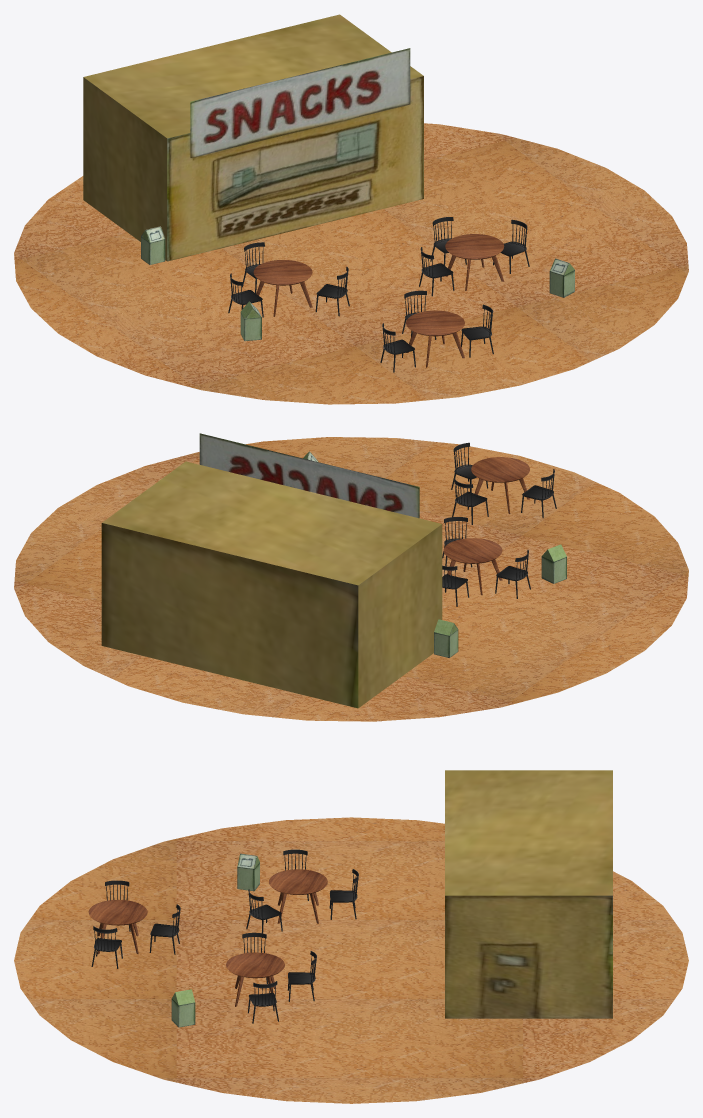
File: SnackArea.fbx
3 views of the same model, one above another, from view 1: azimuth 30°, elevation 25°; view 2: azimuth 150°, elevation 25°; view 3: azimuth 270°, elevation 25° (orthographic).
Parts seen in each view (by area): view 1: Cylinder, Cube, Cube_002, table_CÃ_rculo_001, table_CÃ_rculo_002, table_CÃ_rculo_003, Cube_001, Cube_003, Cube_004, seat_Plano_007, seat_Plano_008; view 2: Cylinder, Cube, Cube_002, table_CÃ_rculo_002, table_CÃ_rculo_003, Cube_004, Cube_003, seat_Plano_006, seat_Plano_002, seat_Plano_001, seat_Plano_007, seat_Plano_005; view 3: Cylinder, Cube, table_CÃ_rculo_003, table_CÃ_rculo_002, table_CÃ_rculo_001, Cube_001, Cube_004, seat_Plano_008, seat_Plano_007, seat_Plano_009, seat_Plano_006, seat_Plano_005 (+1 smaller).
Boxes of the visible parts, x1,y1,x2,y2 form: Cylinder: (14,123,688,404); Cube: (83,14,423,261); Cube_002: (190,48,410,157); table_CÃ_rculo_001: (445,234,504,290); table_CÃ_rculo_002: (406,310,464,367); table_CÃ_rculo_003: (253,260,312,316); Cube_001: (549,258,574,297); Cube_003: (141,226,165,264); Cube_004: (240,301,261,341); seat_Plano_007: (461,304,493,357); seat_Plano_008: (493,219,529,273); Cylinder: (14,437,688,721); Cube: (101,461,442,708); Cube_002: (199,433,419,518); table_CÃ_rculo_002: (471,457,529,513); table_CÃ_rculo_003: (443,538,502,595); Cube_004: (541,544,566,583); Cube_003: (434,619,458,657); seat_Plano_006: (452,478,488,524); seat_Plano_002: (521,469,556,518); seat_Plano_001: (495,550,530,598); seat_Plano_007: (451,442,488,492); seat_Plano_005: (442,565,469,606); Cylinder: (14,817,688,1103); Cube: (445,770,612,1018); table_CÃ_rculo_003: (269,869,327,923); table_CÃ_rculo_002: (88,899,147,954); table_CÃ_rculo_001: (226,952,284,1006); Cube_001: (171,989,195,1027); Cube_004: (237,853,259,891); seat_Plano_008: (248,981,278,1023); seat_Plano_007: (91,926,122,968); seat_Plano_009: (246,889,282,937); seat_Plano_006: (149,904,180,954); seat_Plano_005: (329,869,358,919).
Bounding box in the file's own units: 15.98 × 4.07 × 15.91.
